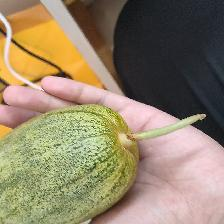gua: (40, 111, 143, 205)
